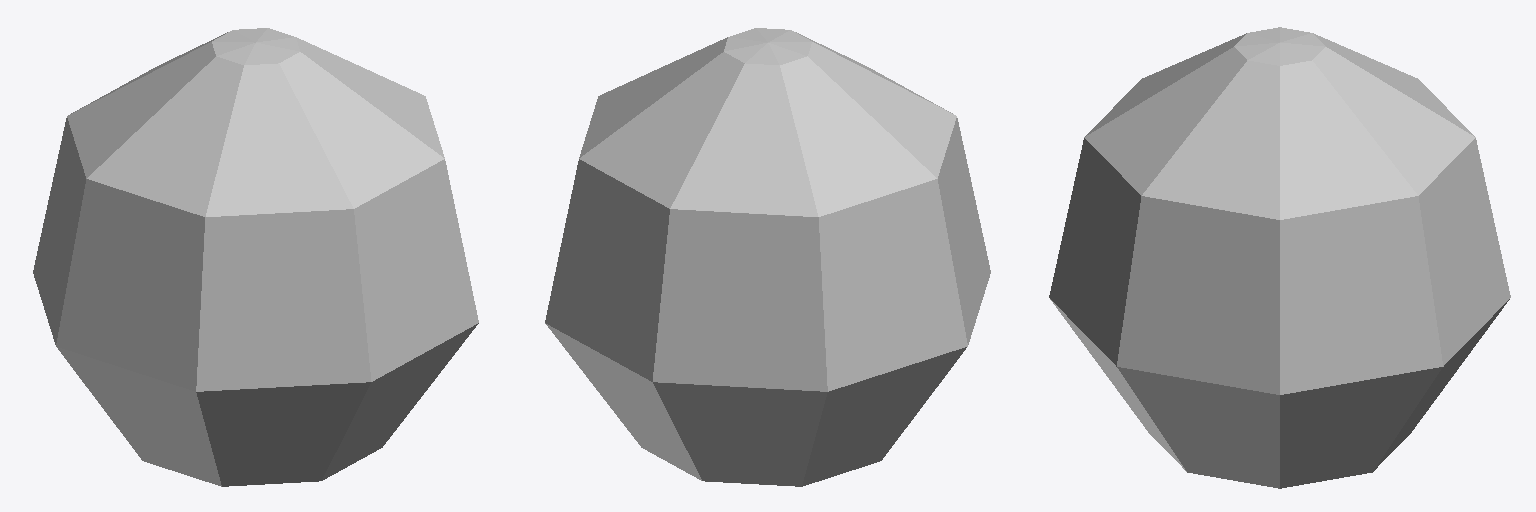
File: bullet.obj
3 renders of one model, left to right at view 1: azimuth 30°, elevation 25°; view 2: azimuth 150°, elevation 25°; view 3: azimuth 270°, elevation 25°, orthographic.
Visible parts, largest first — view 1: 球体; view 2: 球体; view 3: 球体.
Part boxes in pixels (x1,y1,x2,y2): 球体: (33, 28, 478, 486); 球体: (545, 28, 990, 486); 球体: (1049, 27, 1510, 488).
Size of the model in its own units: 0.1009 by 0.1029 by 0.1009.